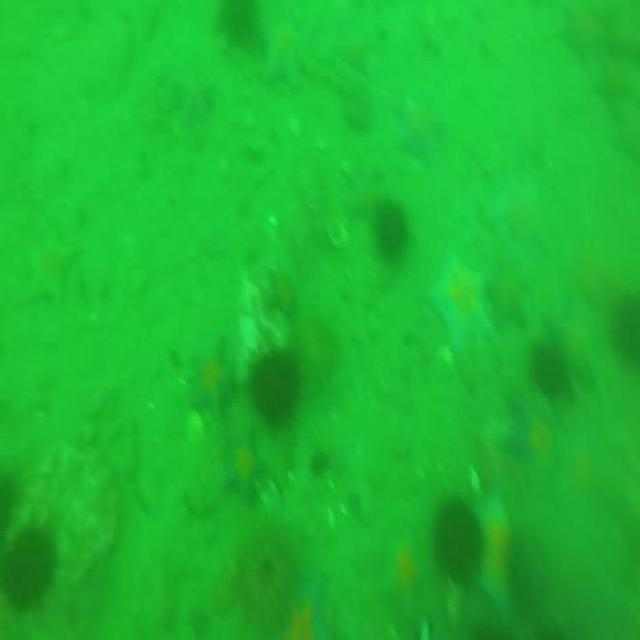echinus: (0, 526, 57, 610), (432, 498, 487, 582), (249, 346, 299, 427), (369, 199, 409, 264), (216, 6, 268, 54), (611, 287, 640, 366), (532, 343, 568, 398)
scallop: (326, 218, 349, 251), (187, 412, 206, 450), (436, 345, 455, 368)
starfish: (428, 253, 494, 355), (14, 215, 76, 313), (481, 158, 544, 253), (242, 580, 340, 640), (478, 499, 530, 608), (508, 390, 566, 478), (185, 340, 239, 419), (395, 82, 447, 164), (162, 58, 214, 126), (228, 422, 270, 504), (259, 22, 312, 85)
